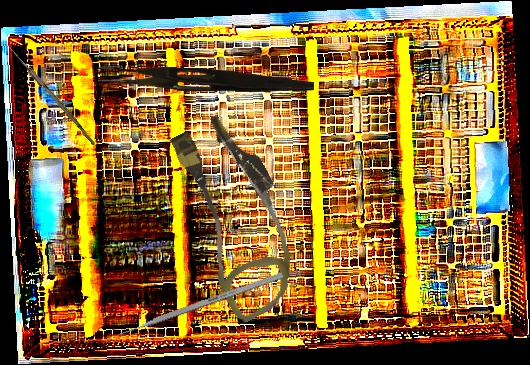Cannula: (147, 106, 326, 326)
Dressing Forceps: (97, 66, 315, 94)
Pusher: (108, 271, 284, 342)
Surgical Spoon: (2, 40, 98, 146)
